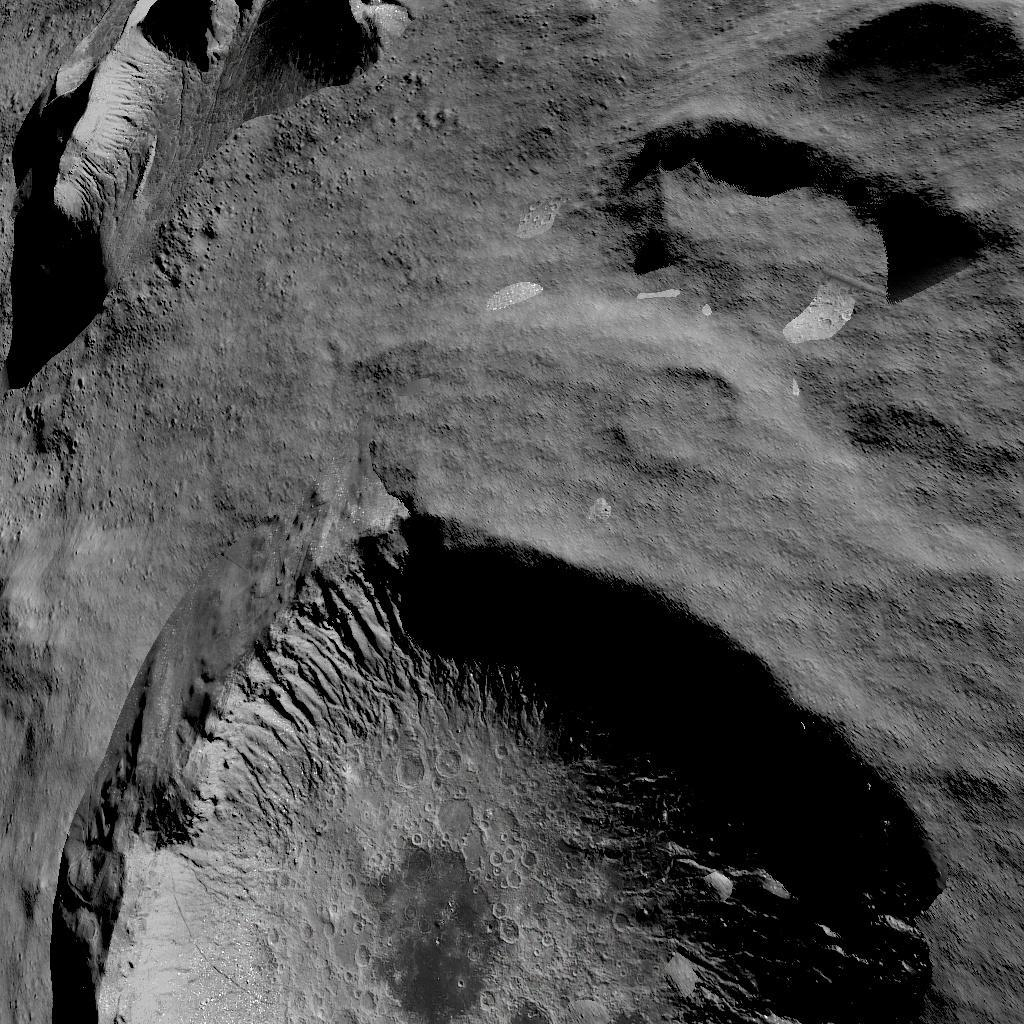Boulders: (0, 0, 455, 395)
Crater: (36, 523, 962, 1024), (614, 0, 1024, 299), (602, 340, 764, 481)
